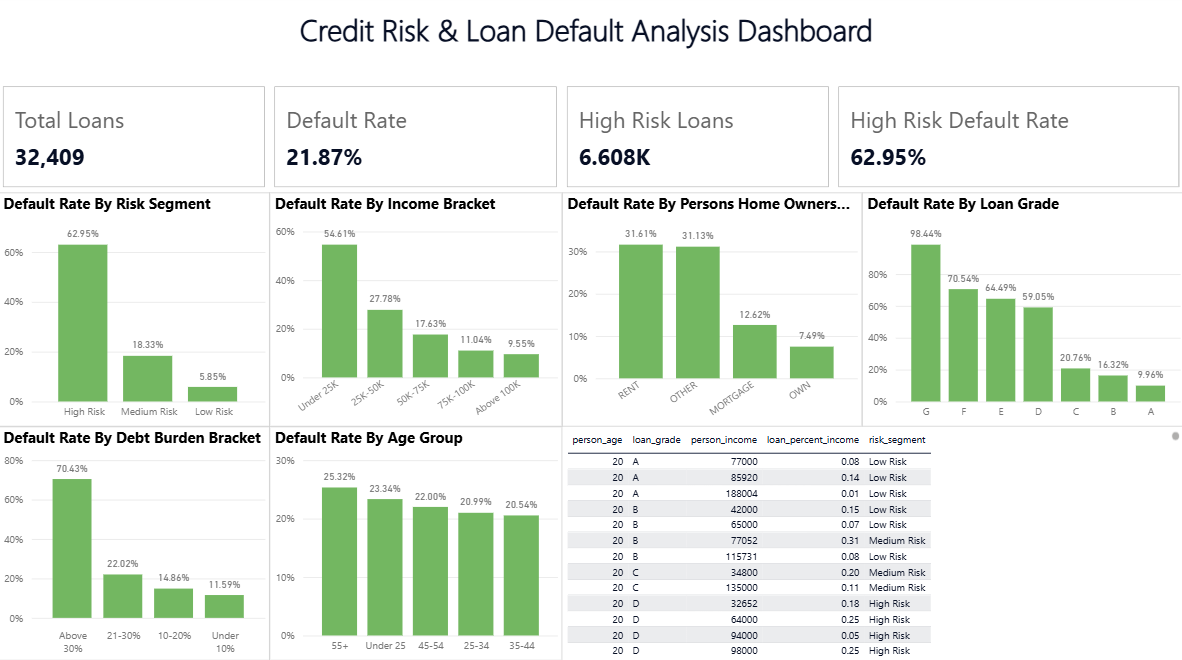

This screenshot's page, from the dashboard's own definition file:
{"tool":"powerbi","page":{"name":"Page 1","canvas":[1280,720],"ordinal":0},"visuals":[{"type":"cardVisual","fields":{"Data":["Tableau_Ready_Data.Total Loans"]},"box":[0,95.5,293.1,119.8],"z":0},{"type":"cardVisual","fields":{"Data":["Tableau_Ready_Data.Default Rate"]},"box":[293.1,95.5,315.7,119.8],"z":1000},{"type":"cardVisual","fields":{"Data":["Tableau_Ready_Data.High Risk Loans"]},"box":[608.8,95.5,293.1,119.8],"z":2000},{"type":"cardVisual","fields":{"Data":["Tableau_Ready_Data.High Risk Default Rate"]},"box":[901.9,95.5,378.9,119.8],"z":3000},{"type":"clusteredColumnChart","title":"Default Rate By Risk Segment","fields":{"Y":["Tableau_Ready_Data.Default Rate"],"Category":["Tableau_Ready_Data.risk_segment"]},"box":[0,215.4,293.1,252.6],"z":4000},{"type":"clusteredColumnChart","title":"Default Rate By Income Bracket","fields":{"Category":["Tableau_Ready_Data.income_bracket"],"Y":["Tableau_Ready_Data.Default Rate"]},"box":[293.1,215.4,315.7,252.6],"z":5000},{"type":"clusteredColumnChart","title":"Default Rate By Persons Home Ownership","fields":{"Category":["Tableau_Ready_Data.person_home_ownership"],"Y":["Tableau_Ready_Data.Default Rate"]},"box":[608.8,215.4,323.8,252.6],"z":6000},{"type":"clusteredColumnChart","title":"Default Rate By Loan Grade","fields":{"Category":["Tableau_Ready_Data.loan_grade"],"Y":["Tableau_Ready_Data.Default Rate"]},"box":[931.9,215.4,348.1,252.6],"z":7000},{"type":"clusteredColumnChart","title":"Default Rate By Debt Burden Bracket","fields":{"Category":["Tableau_Ready_Data.debt_burden_bracket"],"Y":["Tableau_Ready_Data.Default Rate"]},"box":[0,468,293.1,252.6],"z":8000},{"type":"clusteredColumnChart","title":"Default Rate By Age Group","fields":{"Category":["Tableau_Ready_Data.age_group"],"Y":["Tableau_Ready_Data.Default Rate"]},"box":[293.1,468,315.7,252.6],"z":9000},{"type":"tableEx","fields":{"Values":["Tableau_Ready_Data.person_age","Tableau_Ready_Data.loan_grade","Tableau_Ready_Data.person_income","Tableau_Ready_Data.loan_percent_income","Tableau_Ready_Data.risk_segment"]},"box":[608.8,468,672,252.6],"z":10000},{"type":"textbox","box":[320.2,11.3,639.6,56.7],"z":11000}]}

Visuals, with their boxes in screenshot pixels (x1, y1, x2, y2), scaled from the page's 1280x720 canvas onto the 1182x660 screenshot:
cardVisual - Tableau_Ready_Data.Total Loans: <box>0,88,271,197</box>
cardVisual - Tableau_Ready_Data.Default Rate: <box>271,88,562,197</box>
cardVisual - Tableau_Ready_Data.High Risk Loans: <box>562,88,833,197</box>
cardVisual - Tableau_Ready_Data.High Risk Default Rate: <box>833,88,1181,197</box>
"Default Rate By Risk Segment" clusteredColumnChart: <box>0,197,271,429</box>
"Default Rate By Income Bracket" clusteredColumnChart: <box>271,197,562,429</box>
"Default Rate By Persons Home Ownership" clusteredColumnChart: <box>562,197,861,429</box>
"Default Rate By Loan Grade" clusteredColumnChart: <box>861,197,1181,429</box>
"Default Rate By Debt Burden Bracket" clusteredColumnChart: <box>0,429,271,659</box>
"Default Rate By Age Group" clusteredColumnChart: <box>271,429,562,659</box>
tableEx - Tableau_Ready_Data.person_age x Tableau_Ready_Data.loan_grade: <box>562,429,1181,659</box>
textbox: <box>296,10,886,62</box>
